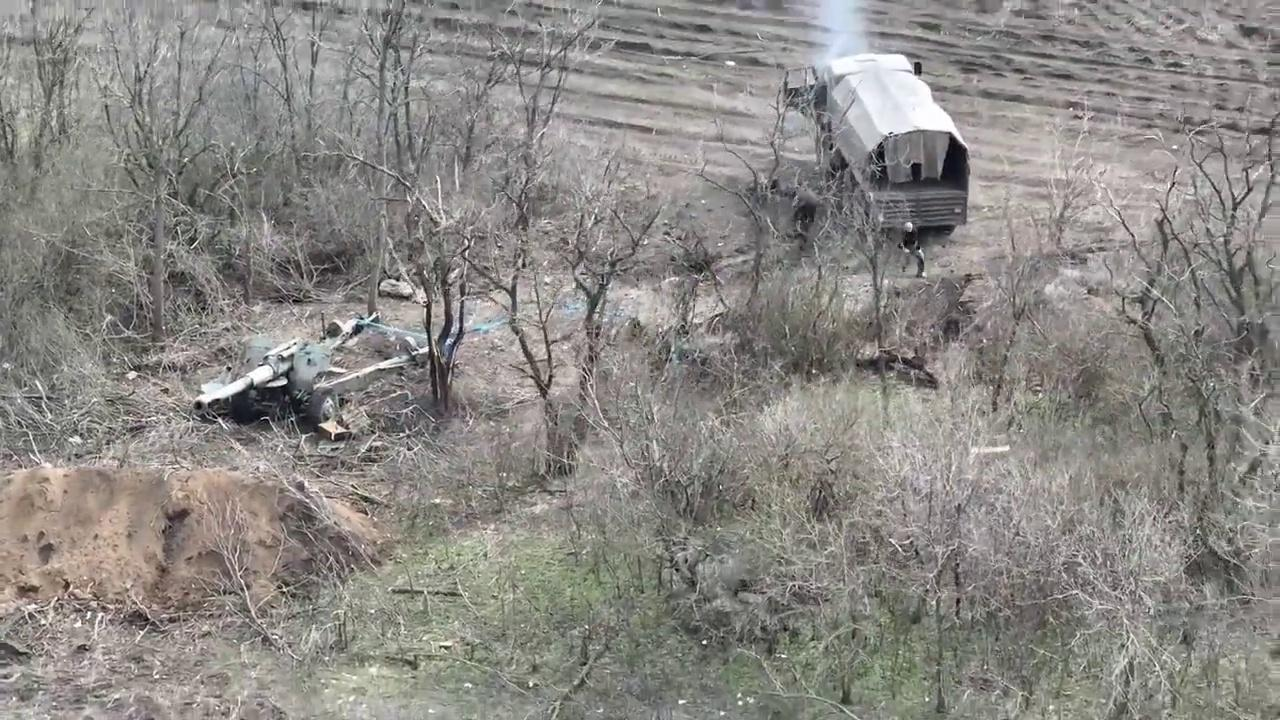person: (900, 219, 926, 276), (791, 183, 813, 238)
vehicle: (782, 53, 974, 238), (188, 311, 394, 431)
